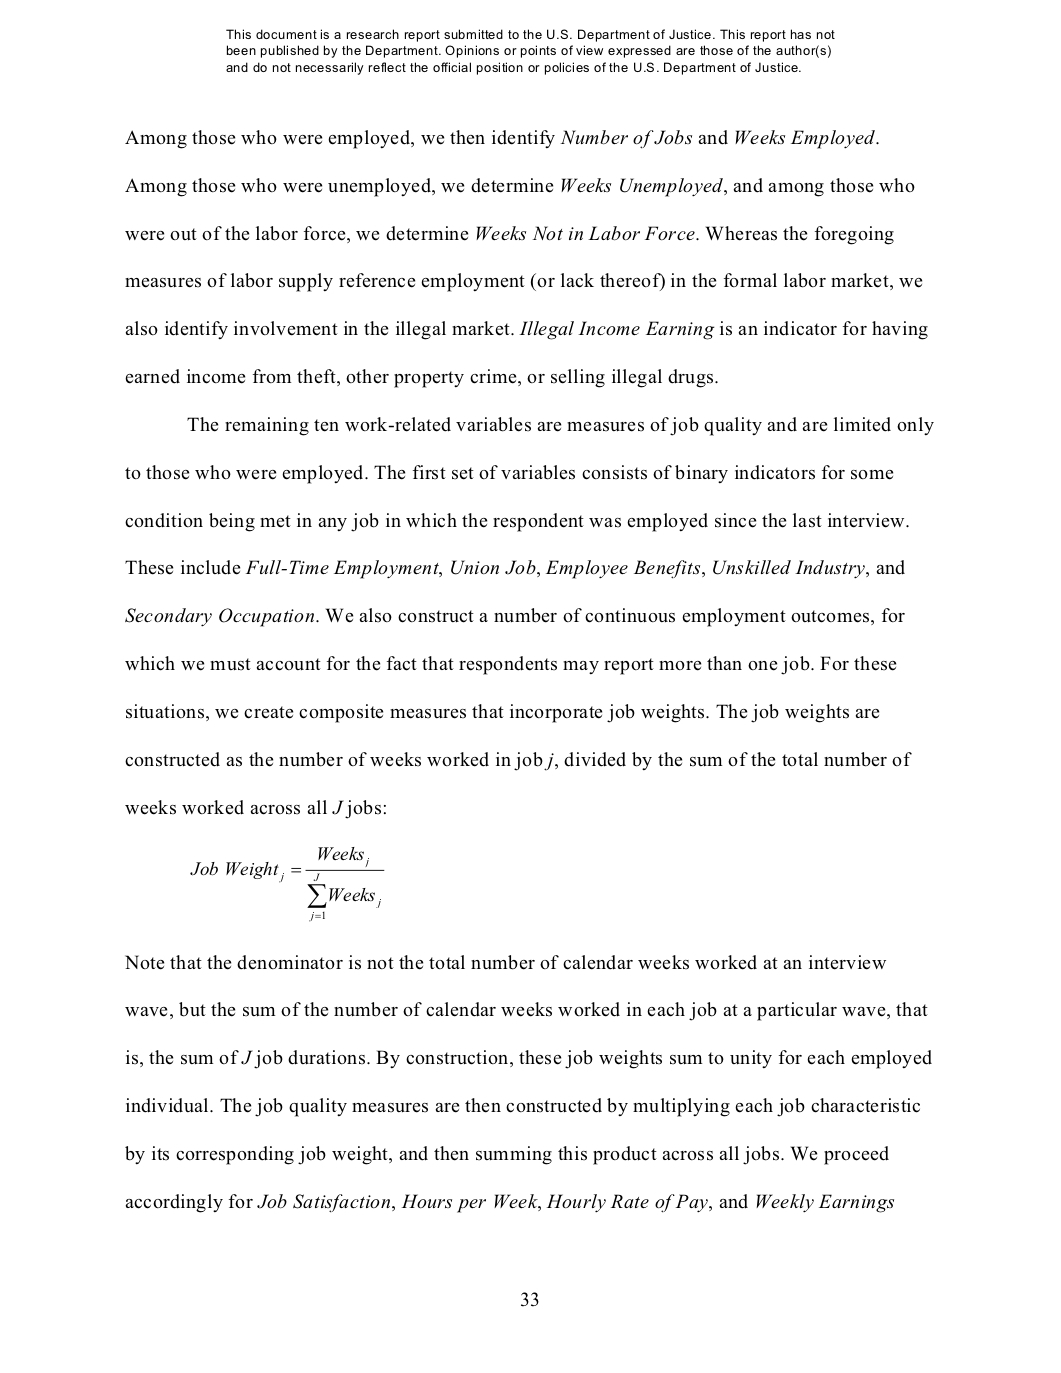formula: (189, 847, 385, 921)
